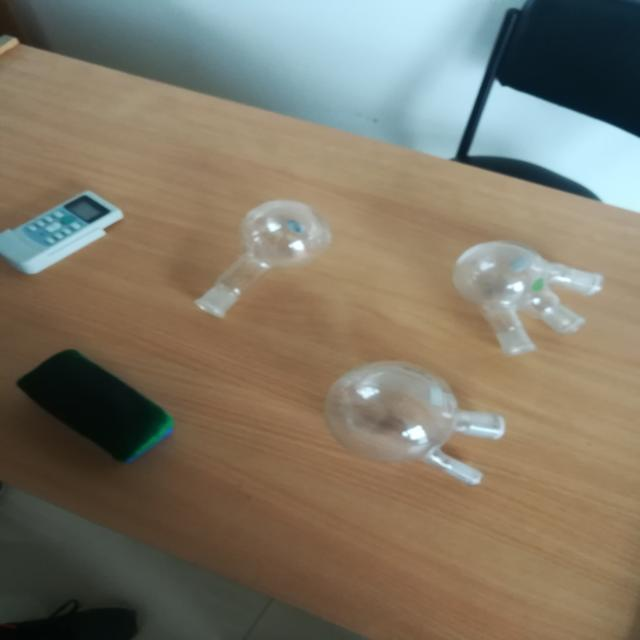Round_Bottom_Flask_Borosilicate_Glass_1_Neck: (174, 171, 340, 337)
Round_Bottom_Flask_Borosilicate_Glass_2_Neck: (293, 354, 530, 506)
Round_Bottom_Flask_Borosilicate_Glass_3_Neck: (426, 215, 638, 376)
